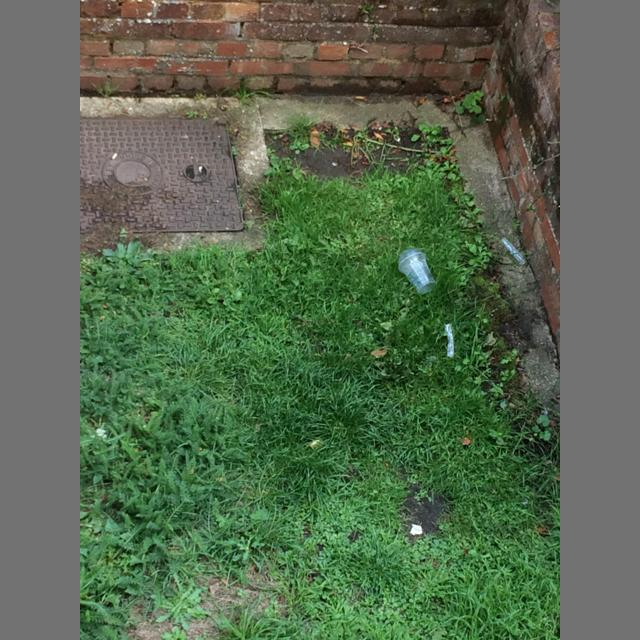litter: (398, 253, 435, 293), (502, 238, 525, 264), (398, 248, 423, 267), (446, 324, 454, 357), (110, 154, 117, 160)
